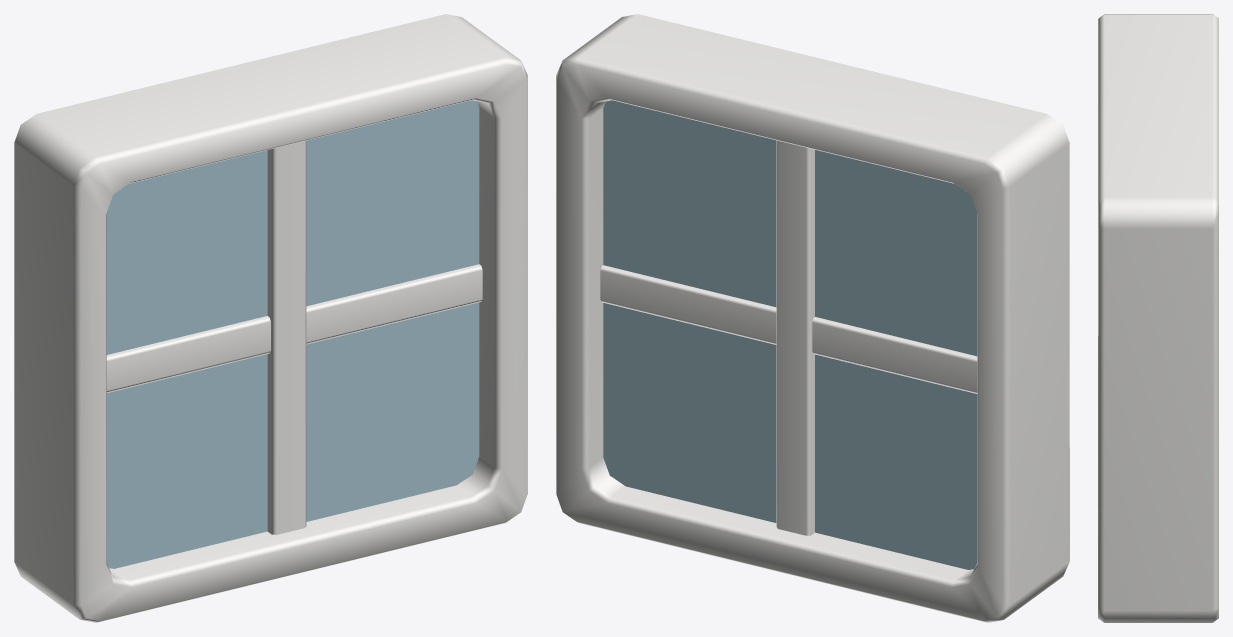
File: Window_5.glb
The picture shows the model from 3 angles, left to right: view 1: azimuth 30°, elevation 25°; view 2: azimuth 150°, elevation 25°; view 3: azimuth 270°, elevation 25°; orthographic projection. The views are drawn at different scales.
Visible parts, largest first — view 1: Window_8; view 2: Window_8; view 3: Window_8.
Boxes of the visible parts, <box> form: Window_8: <box>14,14,527,622</box>; Window_8: <box>556,14,1069,622</box>; Window_8: <box>1098,14,1218,622</box>.
Bounding box in the file's own units: 1.93 × 1.89 × 0.4871.
Materials: 2 (2 with a texture image).
